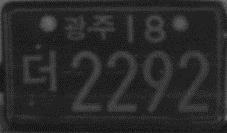1: (125, 12, 138, 46)
2: (178, 48, 212, 114), (106, 48, 138, 114), (71, 49, 104, 112)
8: (142, 14, 165, 43)
9: (141, 47, 174, 114)
광주_O: (63, 12, 117, 42)
더: (22, 49, 60, 93)
